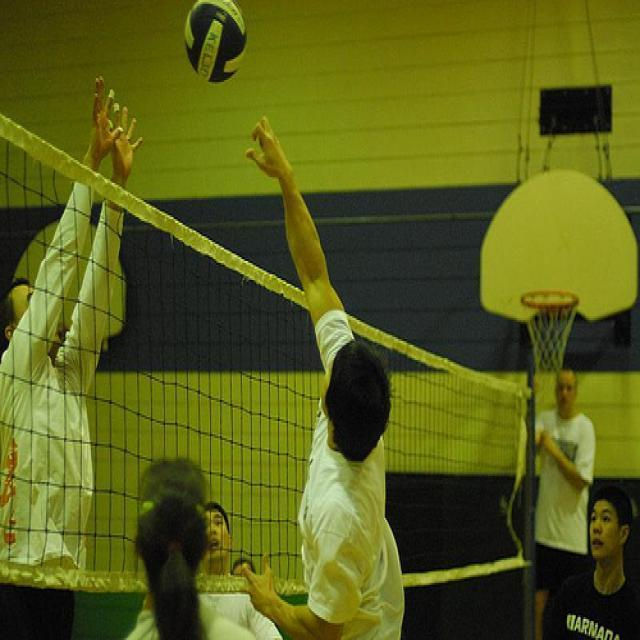volleyball: (184, 0, 246, 84)
